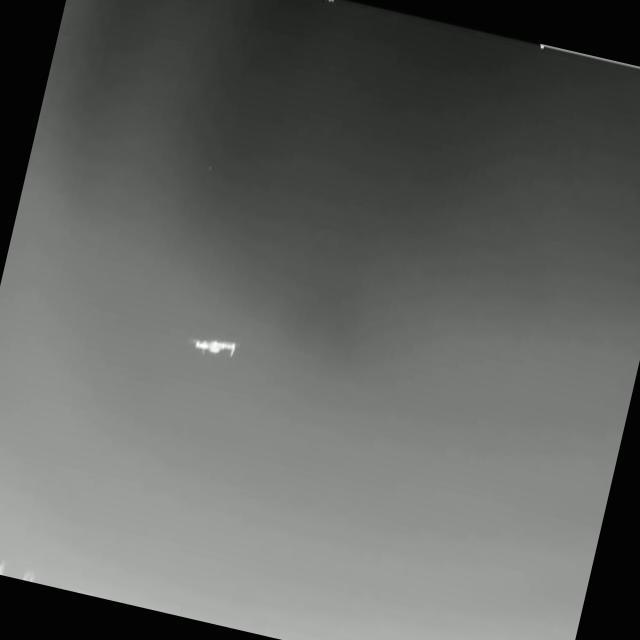DRONE: (174, 320, 245, 373)
